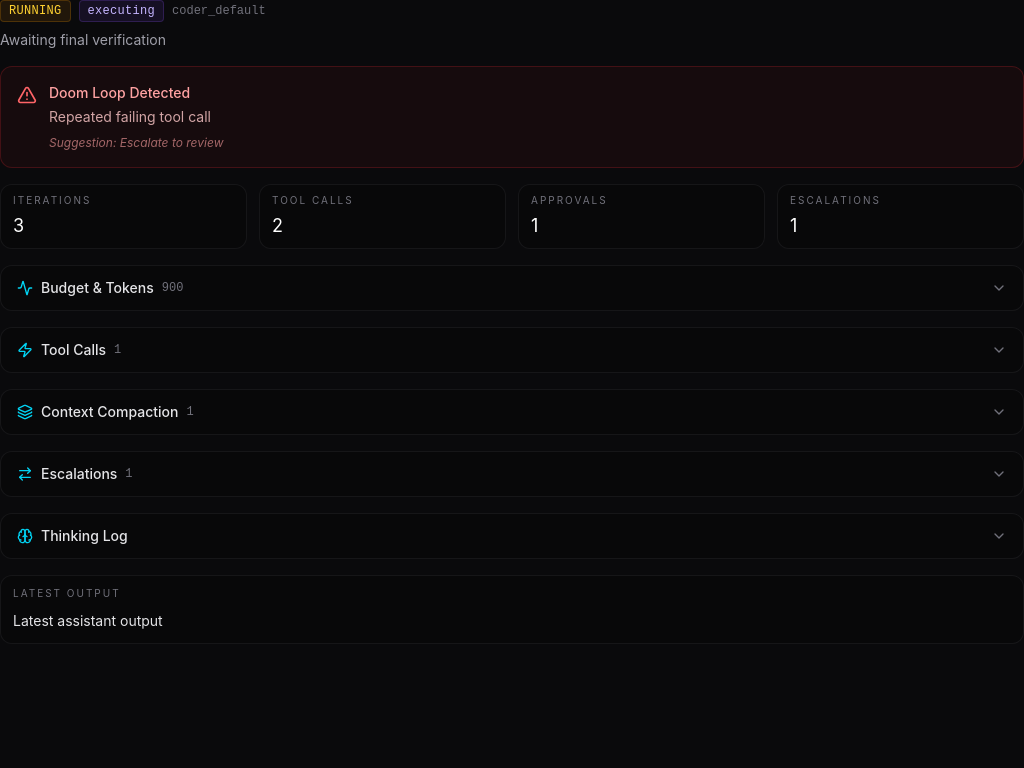
Test case: AgenticRunDeepPanel › renders the expanded agentic run sections
This screenshot has width=1024, height=768.
Check: the text "Awaiting final verification" is shown, box [0,31,166,48]
Check: the text "Latest assistant output" is shown, box [13,612,163,629]
Click the button "Tool Calls 1" at (74, 350), box [1,328,1023,372]
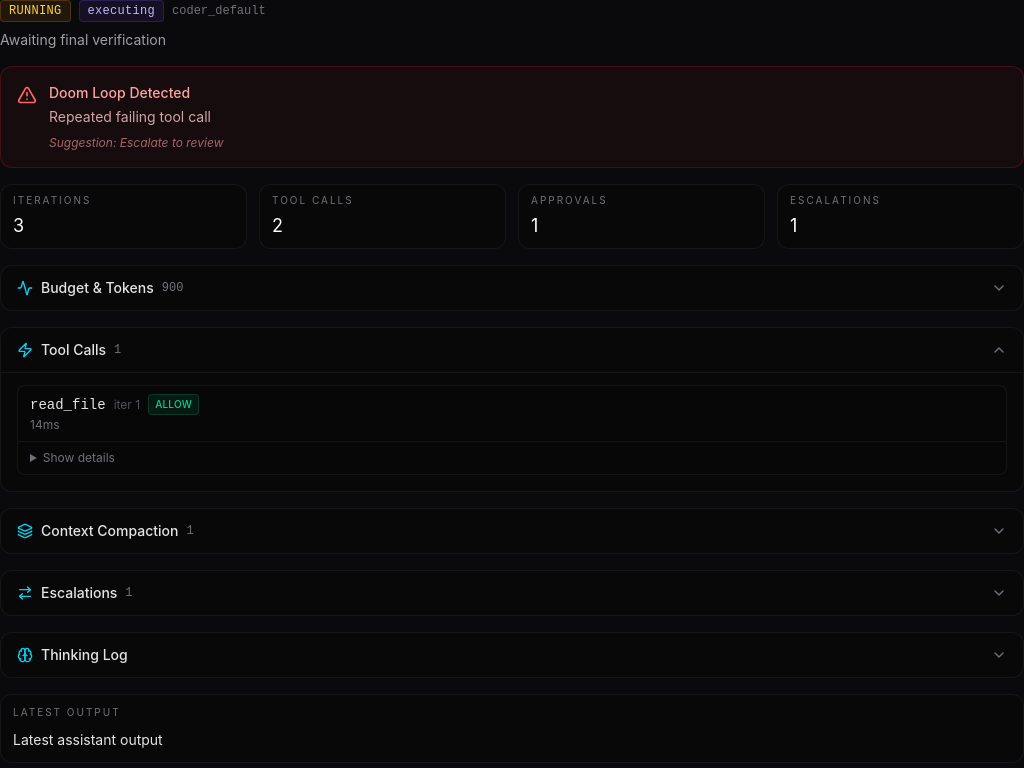
Check: the text "read_file" is shown, box [30,394,106,414]
Click the button "Context Compaction 1" at (110, 530), box [1,509,1023,553]
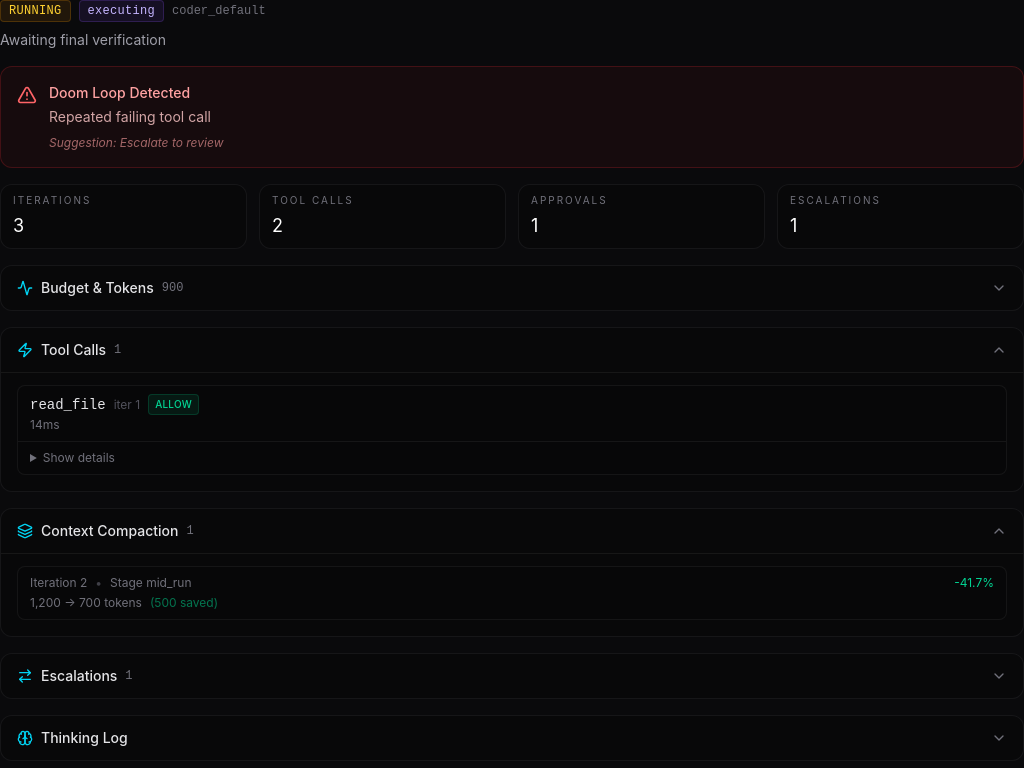
Check: the text "(500 saved)" is shown, box [150,595,218,611]
Click the button "Escalations 1" at (79, 676), box [1,654,1023,698]
(page scrolled)
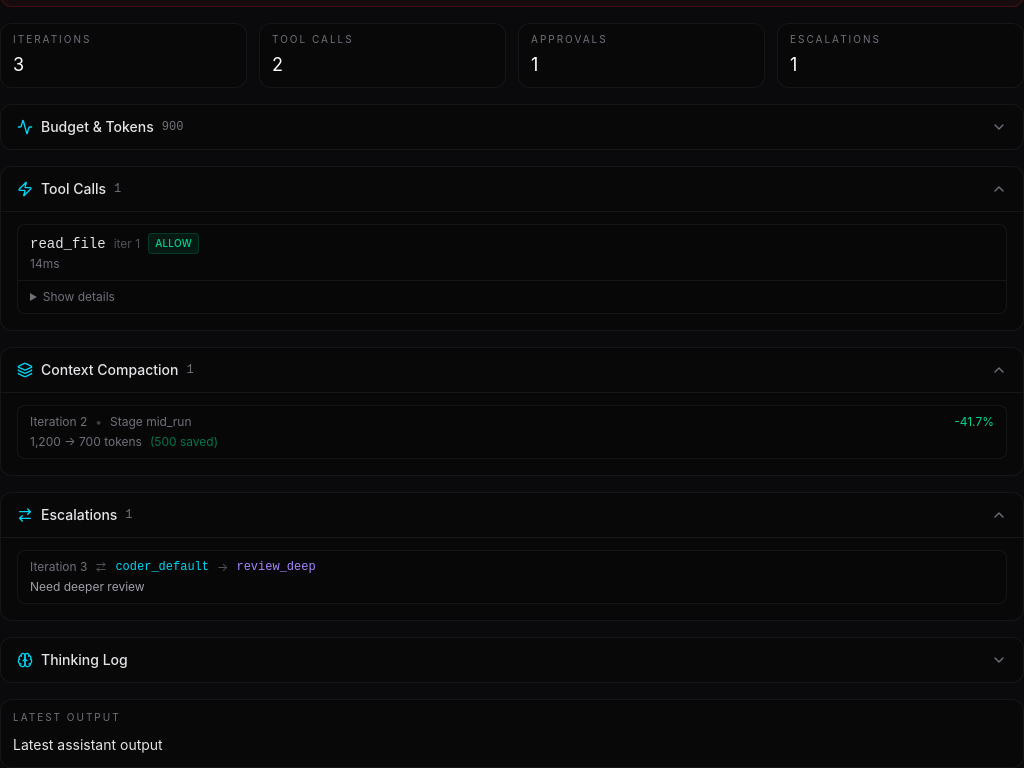
Check: the text "Need deeper review" is shown, box [30,579,145,594]
Click the button "Thinking Log" at (84, 660), box [1,638,1023,682]
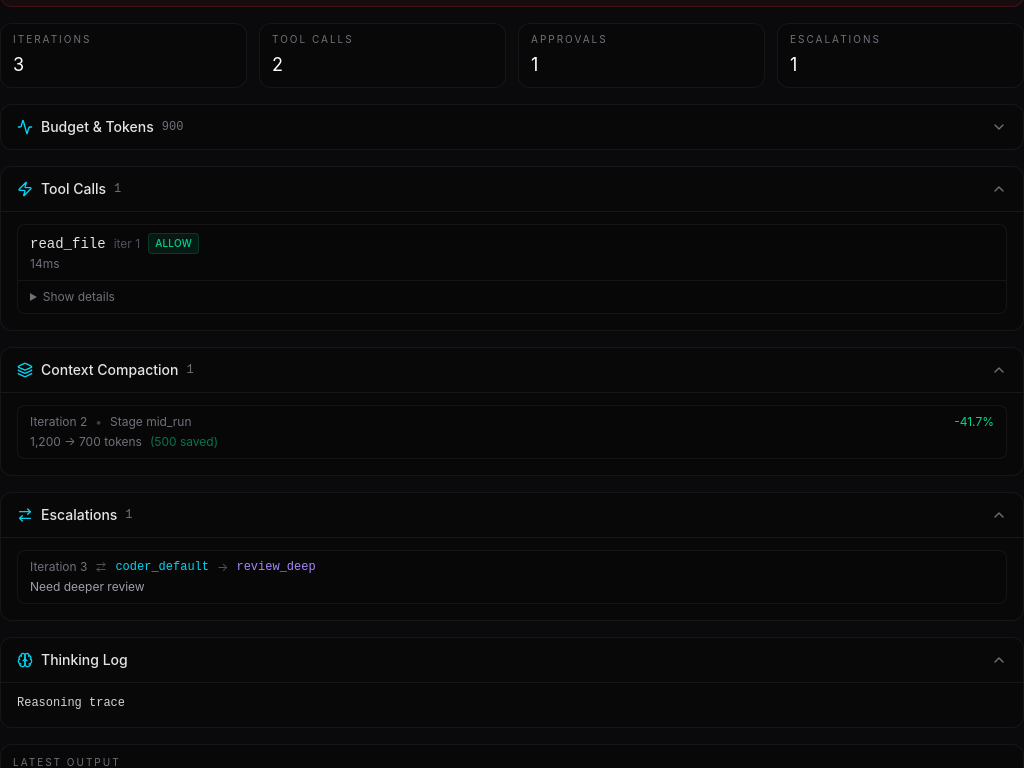
Check: the text "Reasoning trace" is shown, box [17,696,125,710]
